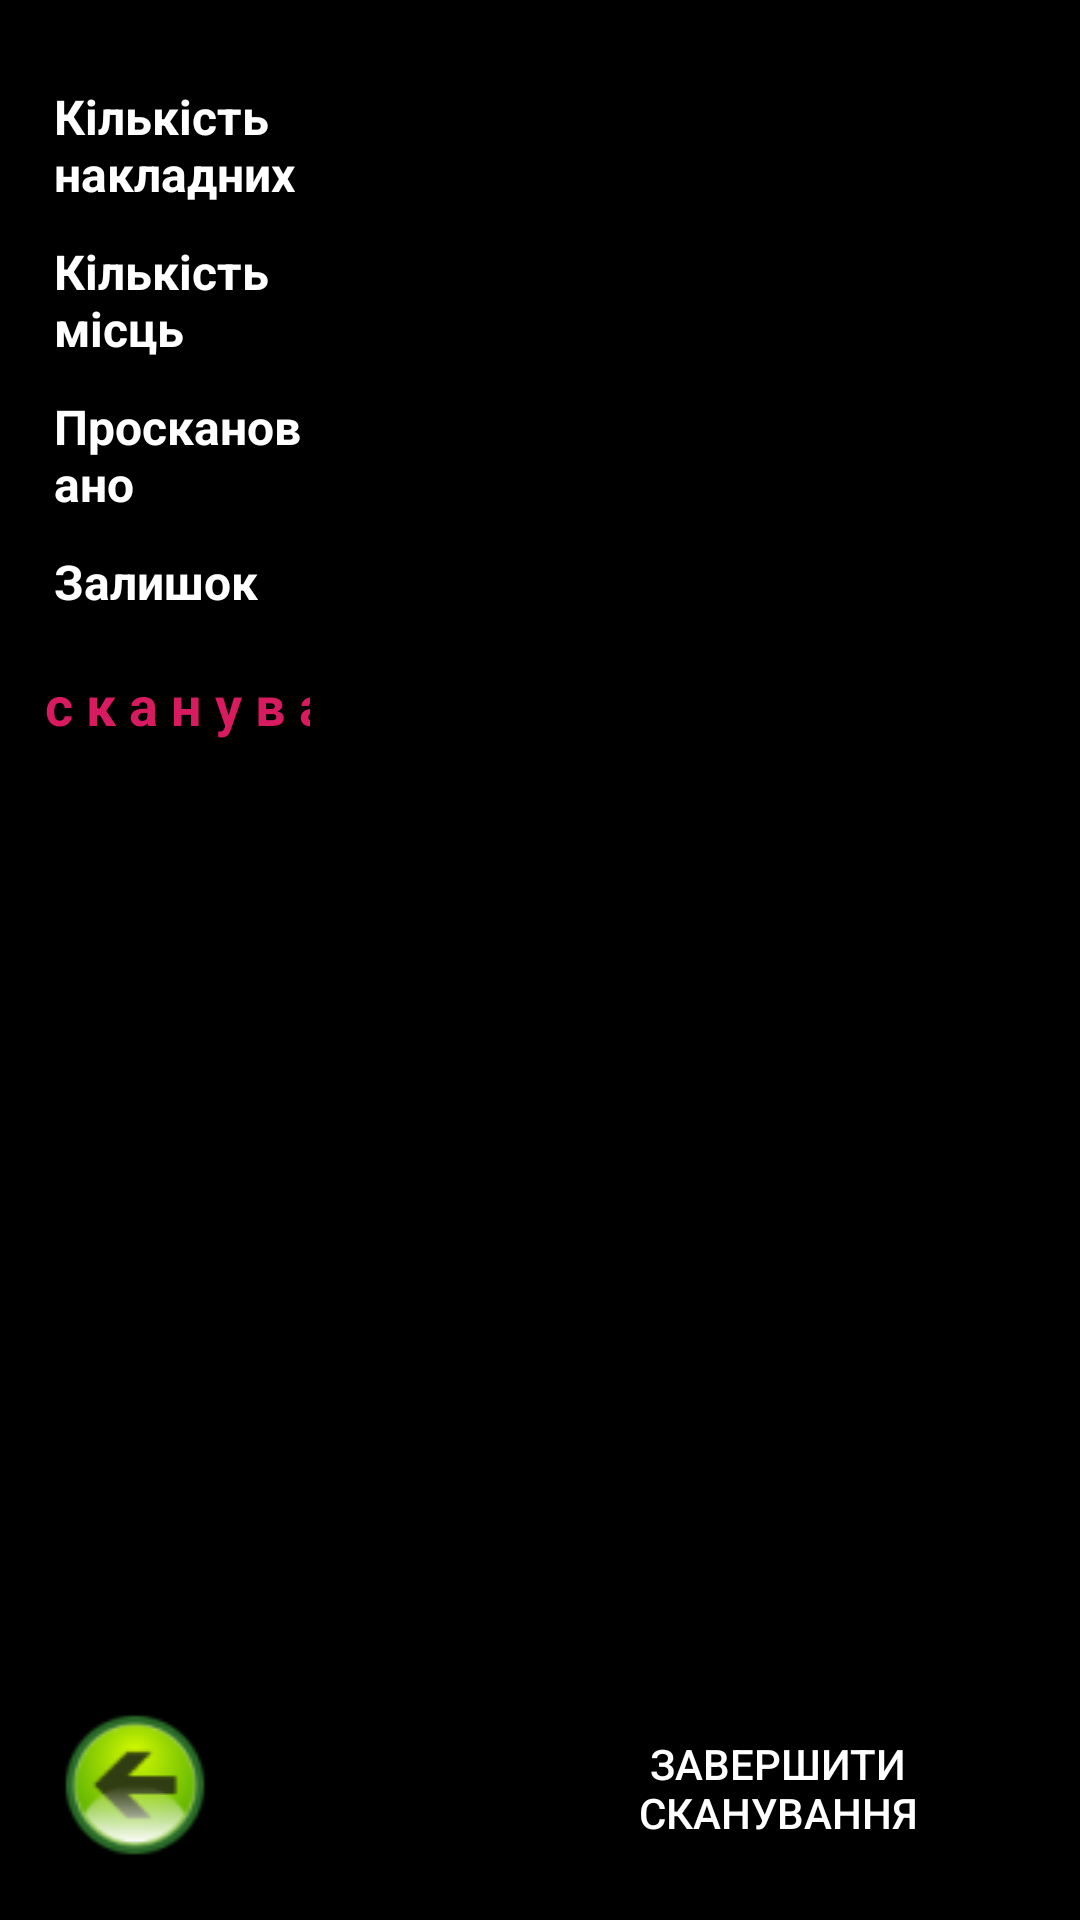

Named icons in this screenshot (1080w x 1920h) and their bounding boxes, box=[x1, y1, x2, y2]:
left: box=[65, 1715, 205, 1855]
